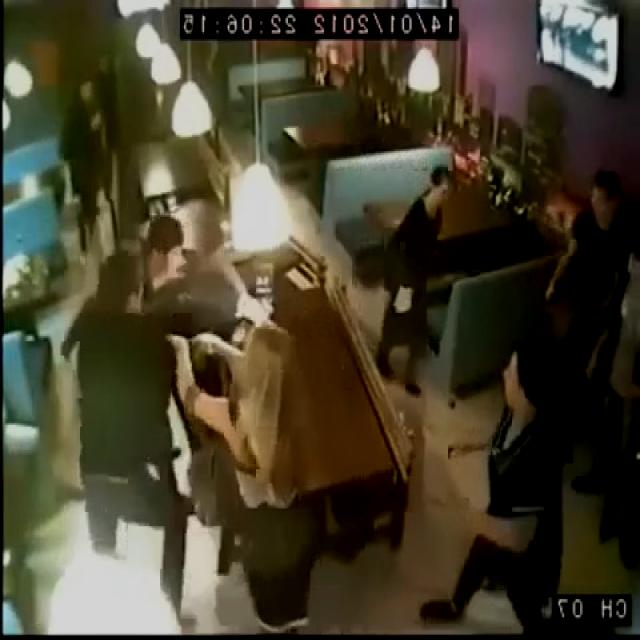fight: (57, 149, 317, 414), (84, 173, 314, 424)
